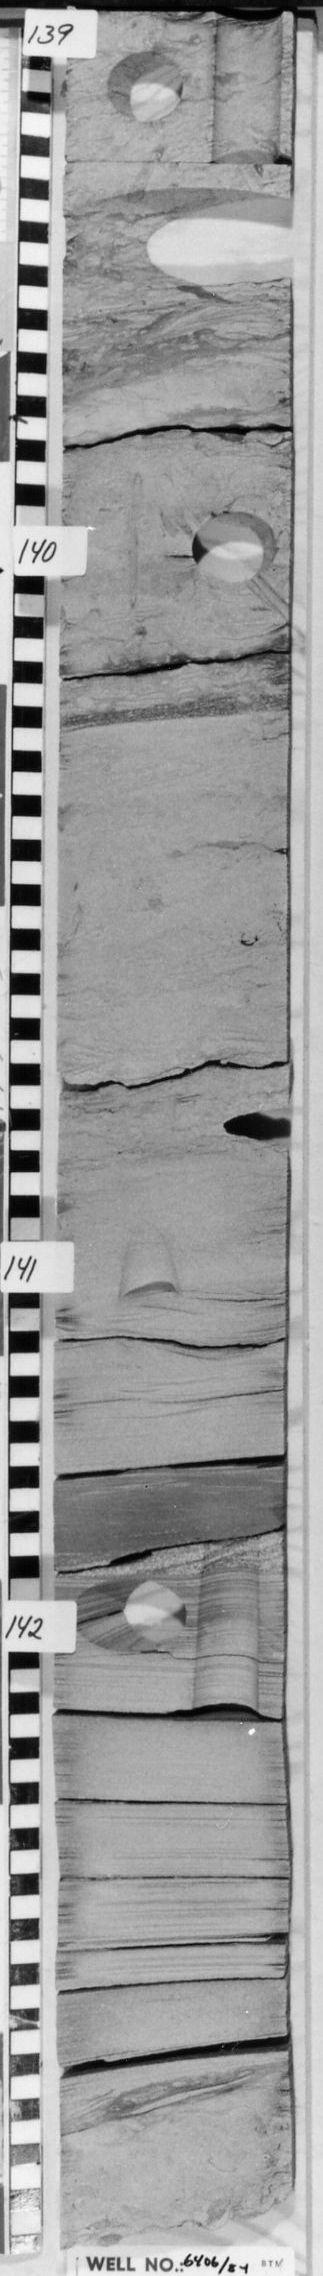hplug: (70, 1576, 193, 1663), (183, 501, 282, 589), (101, 49, 187, 122), (216, 1097, 290, 1160)
scal: (62, 184, 290, 305)
vplug: (190, 1539, 269, 1716), (206, 15, 288, 168), (113, 1213, 187, 1312)
